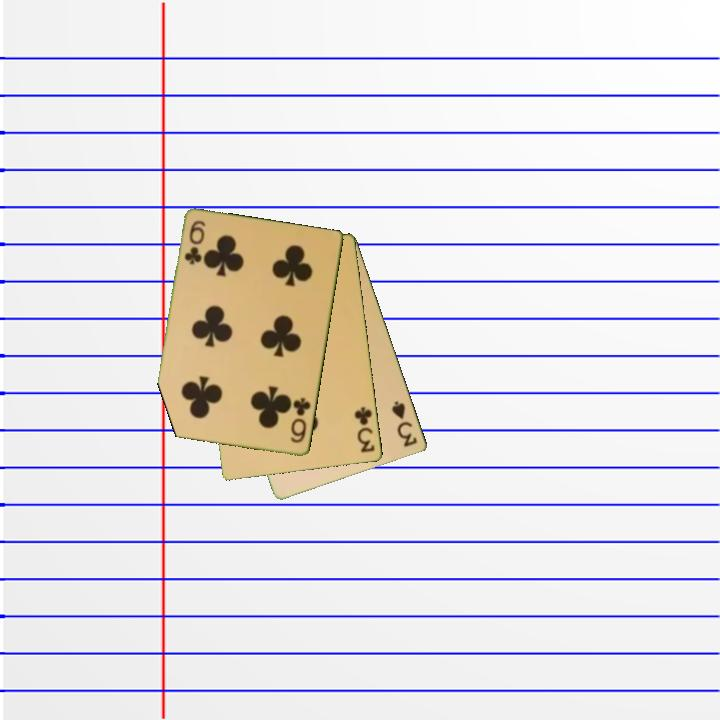3c: (351, 403, 378, 456)
3s: (388, 398, 421, 450)
6c: (287, 395, 314, 446), (181, 217, 208, 268)
